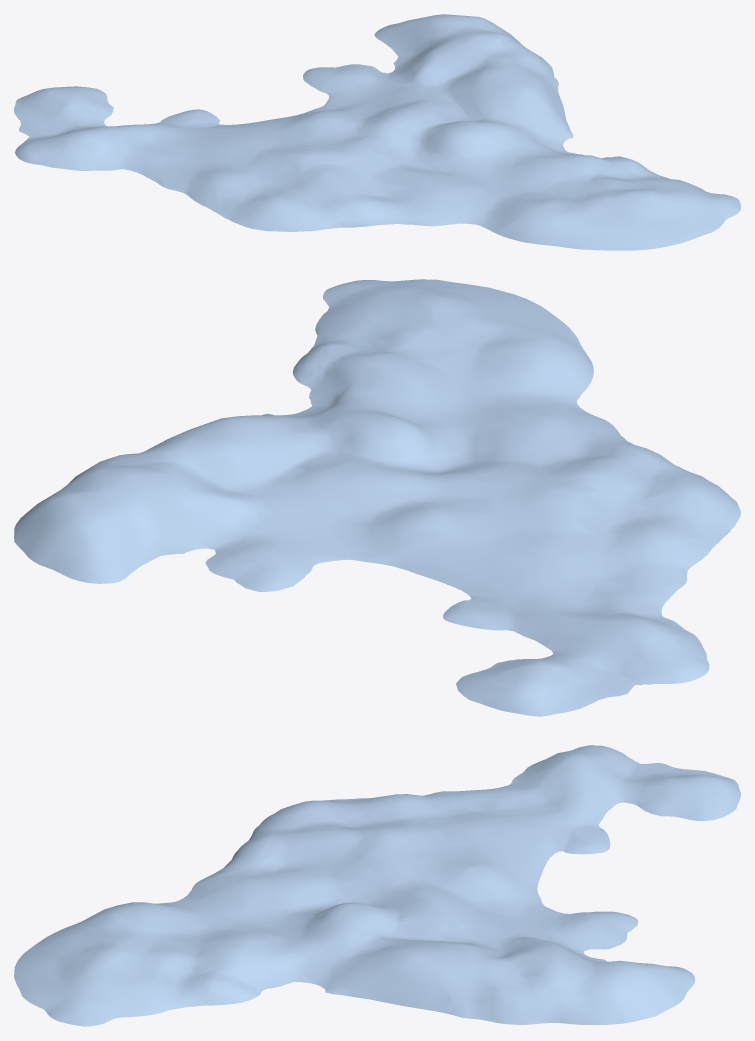
The model's file is IcePatchLarge_01_Bumpy.fbx.
The picture shows the model from 3 angles, top to bottom: view 1: azimuth 30°, elevation 25°; view 2: azimuth 150°, elevation 25°; view 3: azimuth 270°, elevation 25°; orthographic projection. The views are drawn at different scales.
Parts seen in each view (by area): view 1: IcePatchLarge_01_Bumpy.001; view 2: IcePatchLarge_01_Bumpy.001; view 3: IcePatchLarge_01_Bumpy.001.
Part boxes in pixels (<box>): IcePatchLarge_01_Bumpy.001: <box>14,14,740,250</box>; IcePatchLarge_01_Bumpy.001: <box>14,279,740,716</box>; IcePatchLarge_01_Bumpy.001: <box>14,745,740,1026</box>.
Size of the model in its own units: 3.04 by 0.1672 by 3.34.
